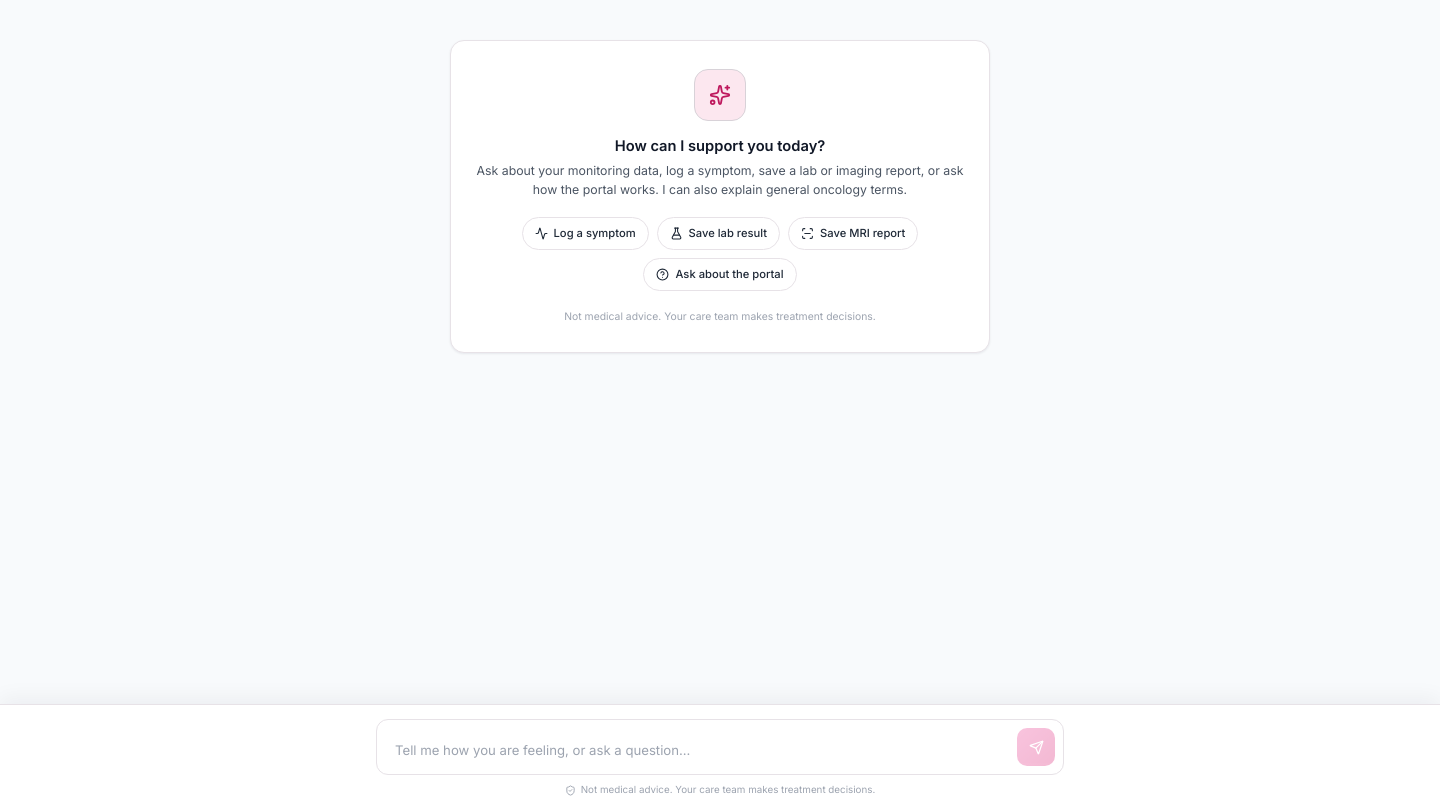
Test: ChatPanel behavioral contract › shows a dismissible inline error and removes the failed optimistic turn
The image size is (1440, 810).
Type "hello" into the text box. click: (699, 750)
box: [391,734,1007,766]
Then press Enter
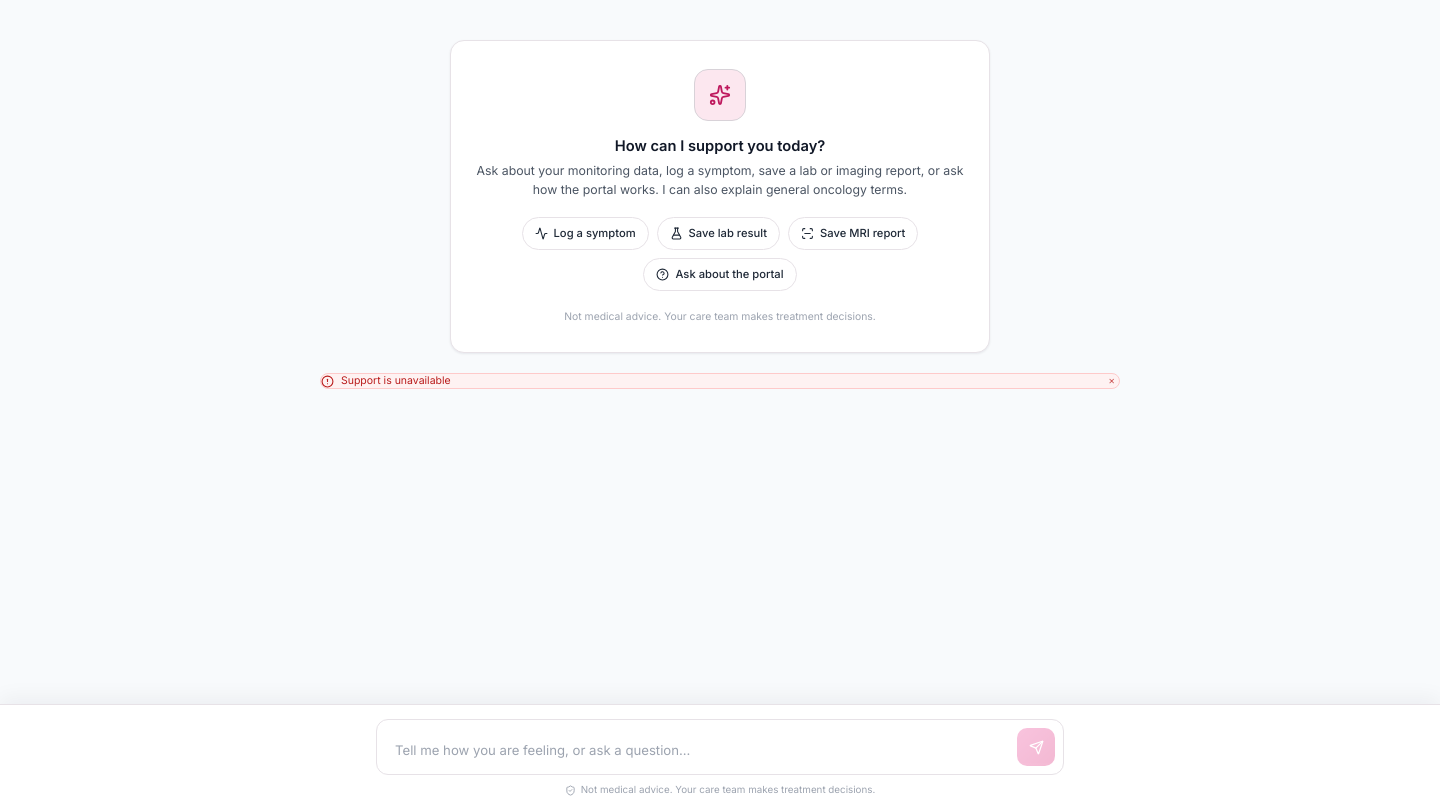
Check: the message shows "Support is unavailable", box [341,374,451,387]
Click the button named "Dismiss error". click: (1112, 381)
box: [1104,374,1119,388]
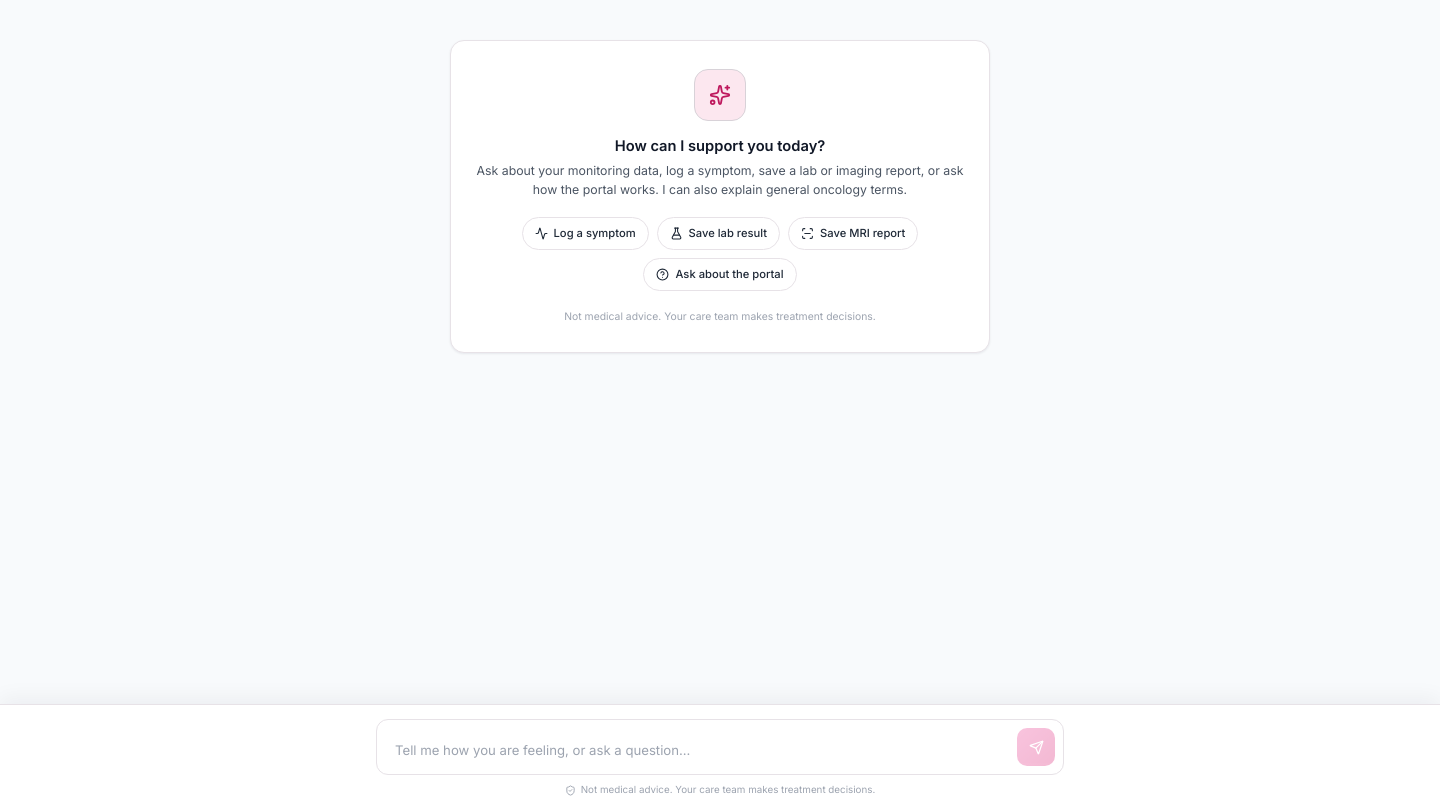
Check: the message "Support is unavailable ×" is gone
